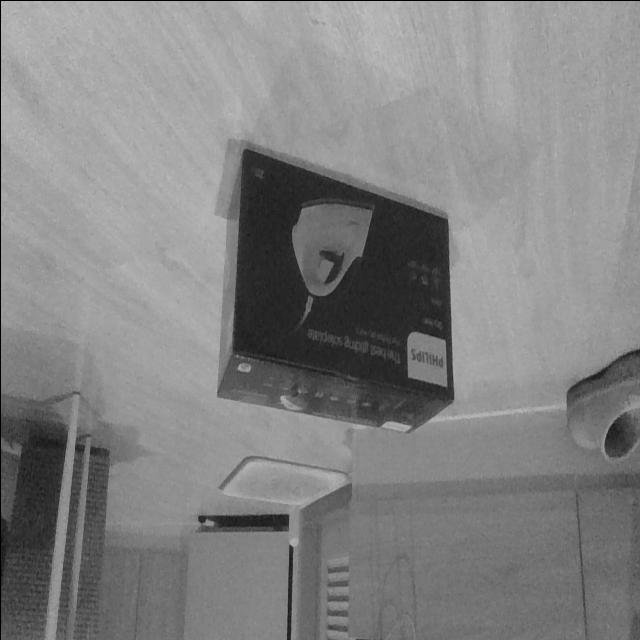IRON: (214, 140, 456, 438)
